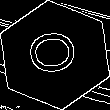O_E: (25, 30, 85, 80)
